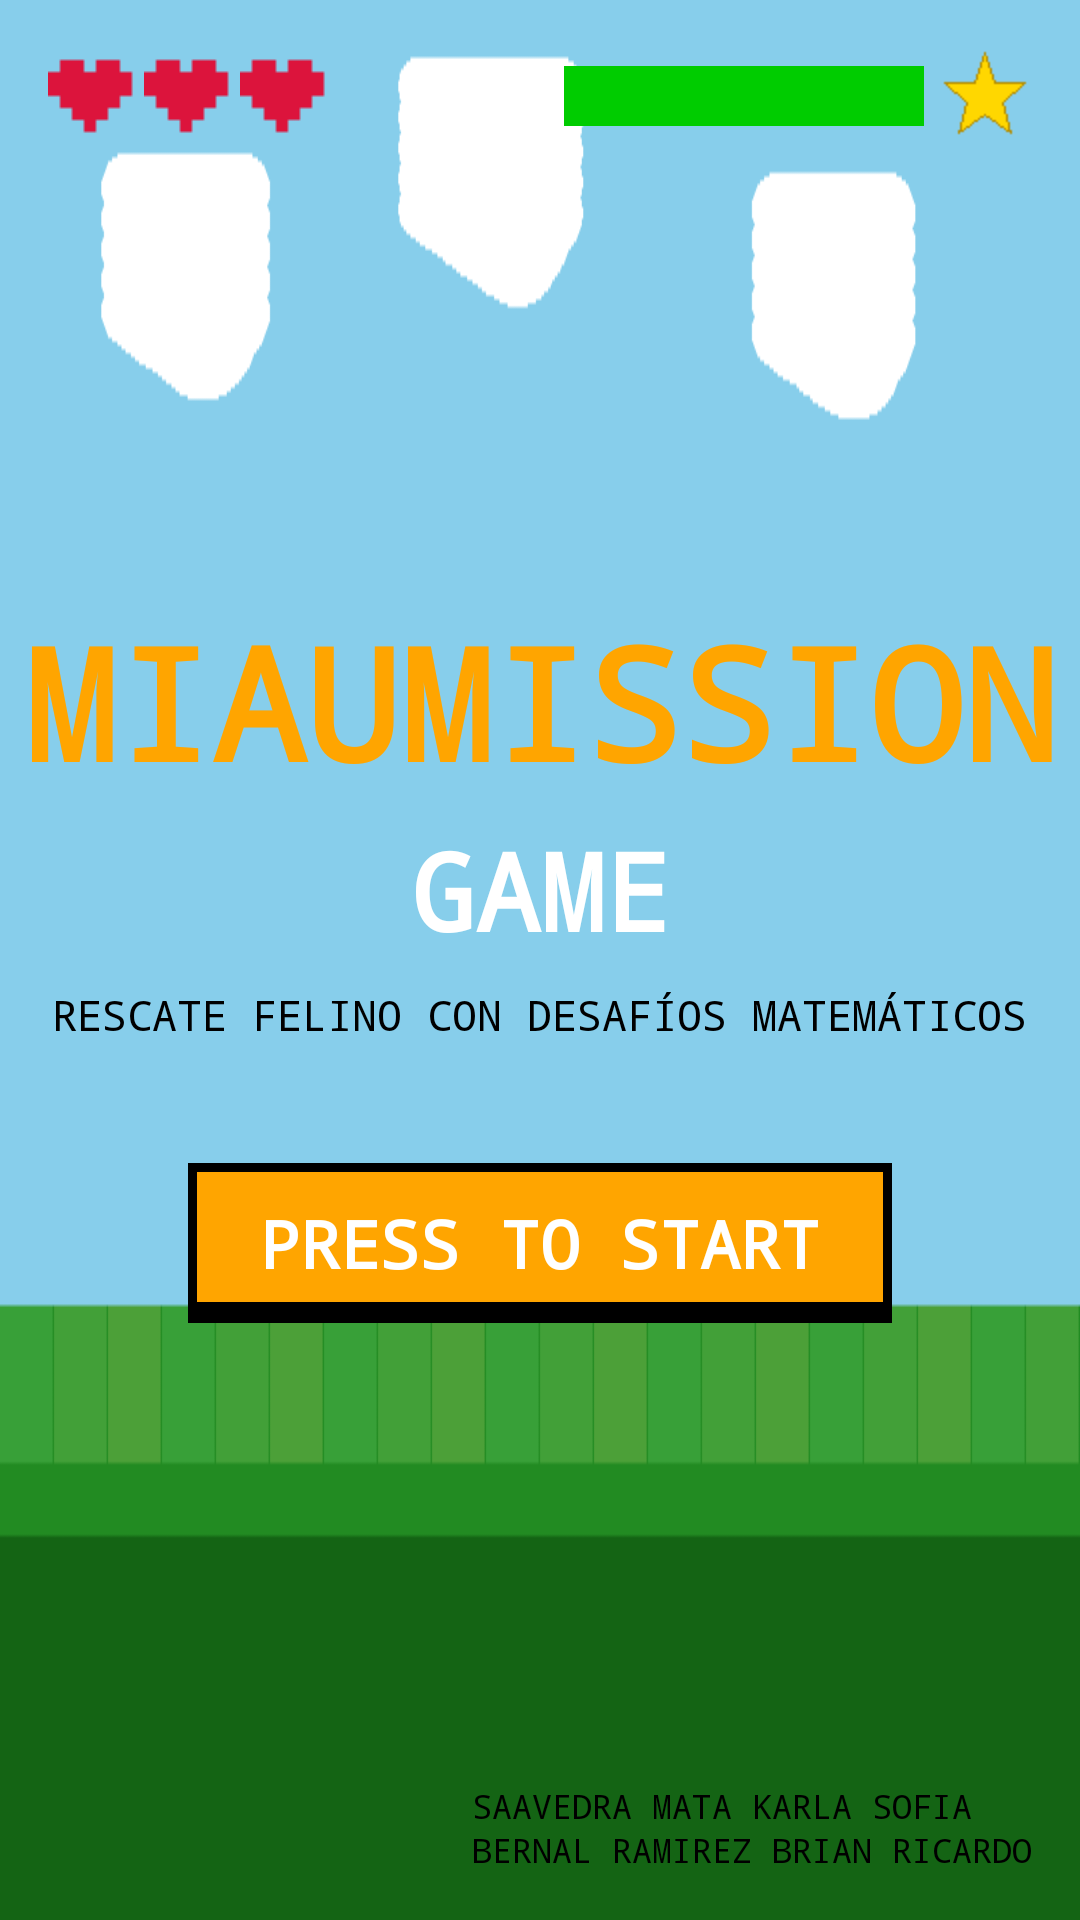

Icon click points for this 1080*1920 phone screenshot, format point (x, y):
heart full: point (90, 96), point (186, 96), point (282, 96)
star: point (985, 93)
